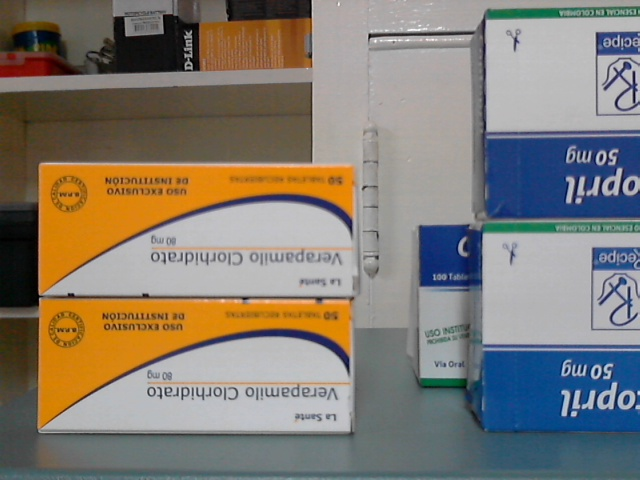LaSante: (41, 299, 355, 432), (37, 165, 357, 294)
